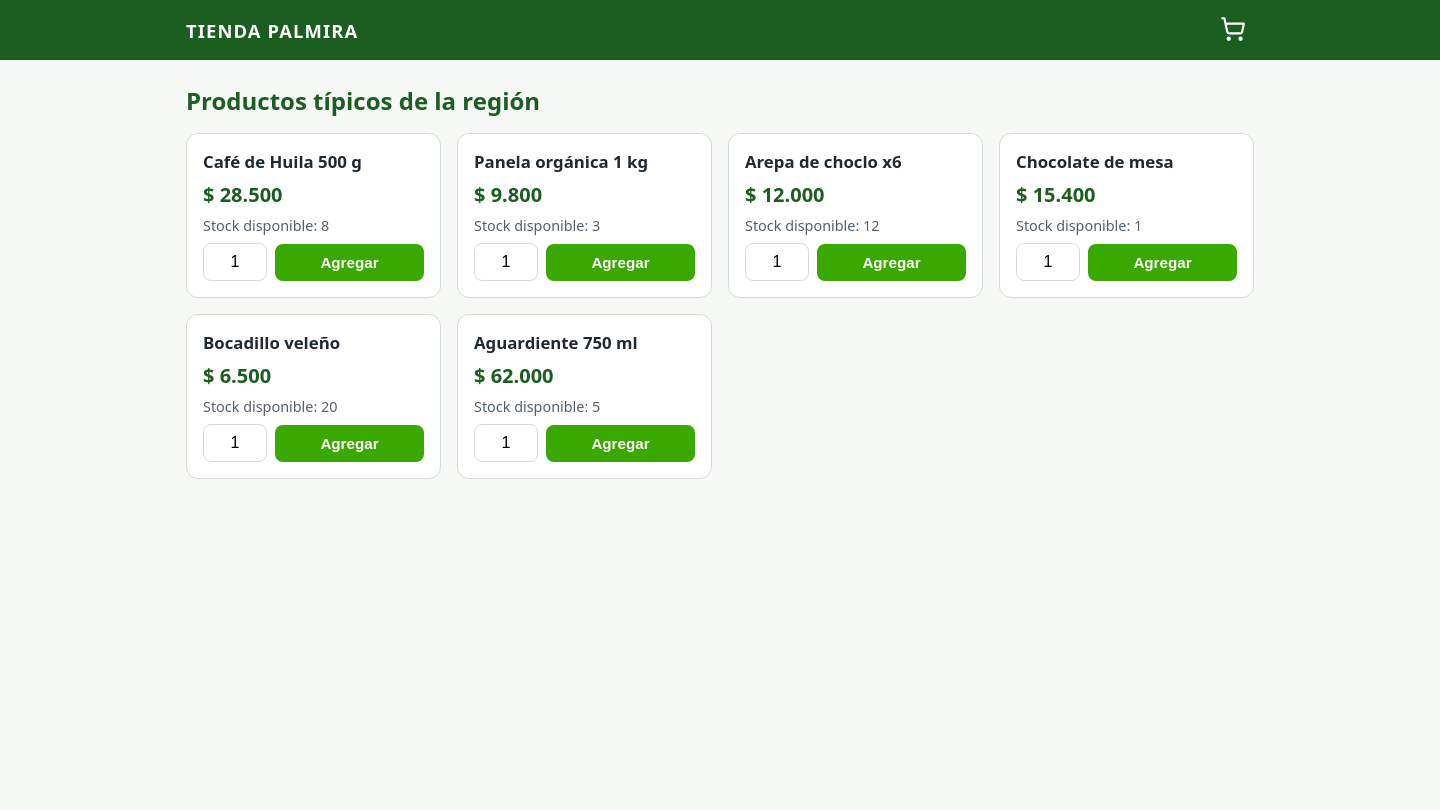
Casos de prueba del instructor › 5. Escribir 999 con stock 8 corrige a 8 y muestra el toast de máximo
Step 1. Replace the text in the number field named "Cantidad a agregar de Café de Huila 500 g" with "999" → (235, 262), box [203, 243, 267, 281]
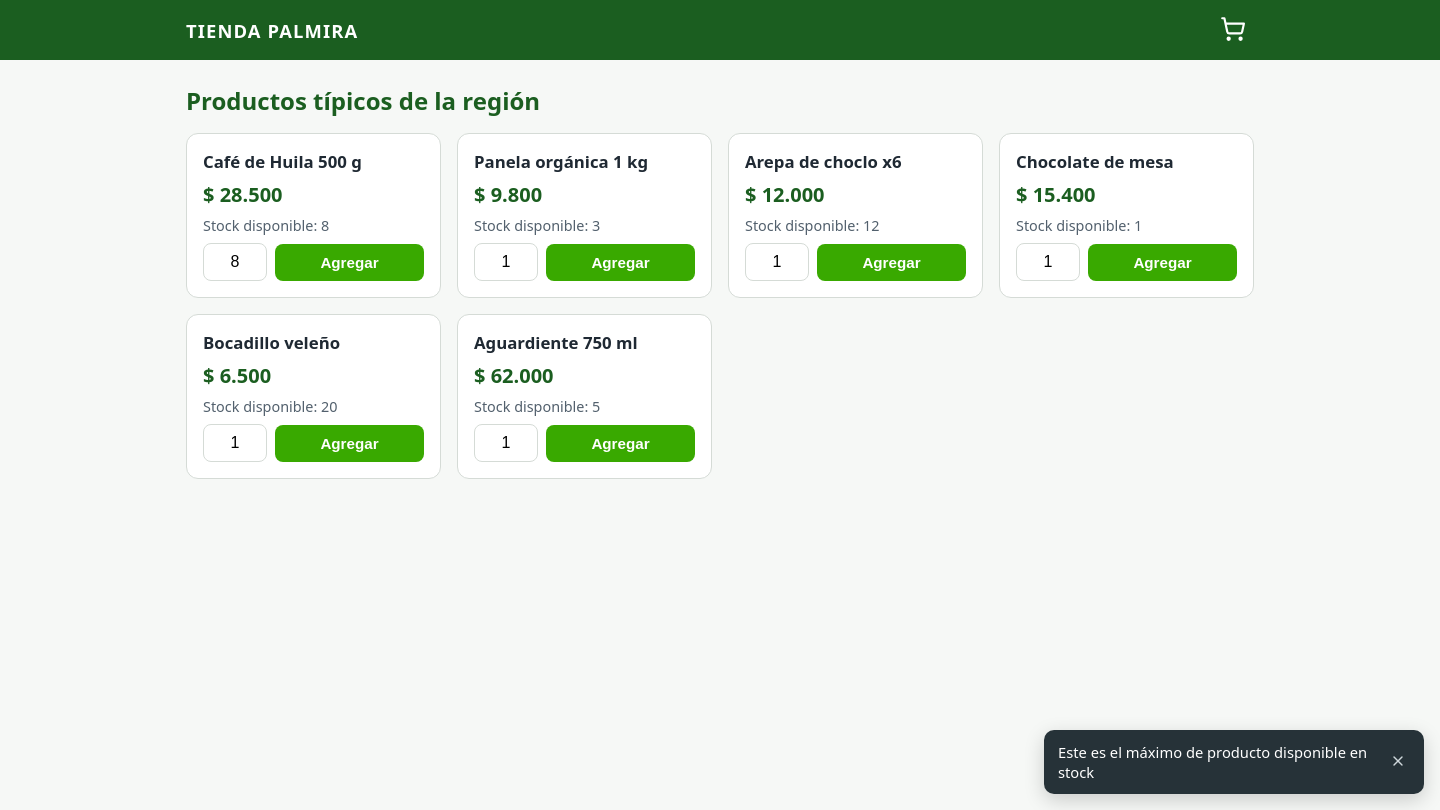
Expected: the text "Este es el máximo de producto disponible en stock" is shown, [1058, 742, 1376, 782]
